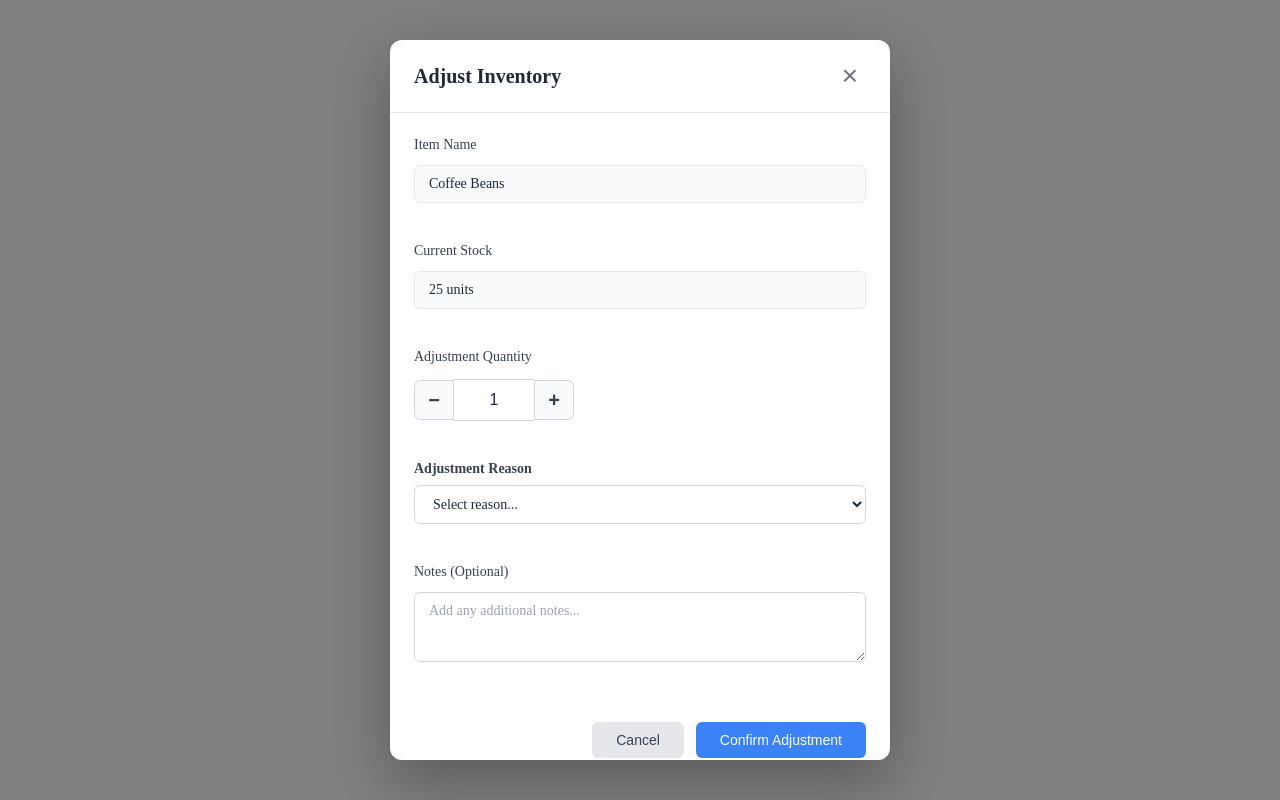
Test: InventoryAdjustmentForm Component › allows adjusting quantity
The image size is (1280, 800).
expect the number field with test id "quantity-input" holds "1": met, box x1=454 y1=379 x2=534 y2=421
What coordinates should you click on to do the following:
click the button with test id "quantity-increment"
I would click on:
 (554, 400)
Its box is x1=534 y1=380 x2=574 y2=420.
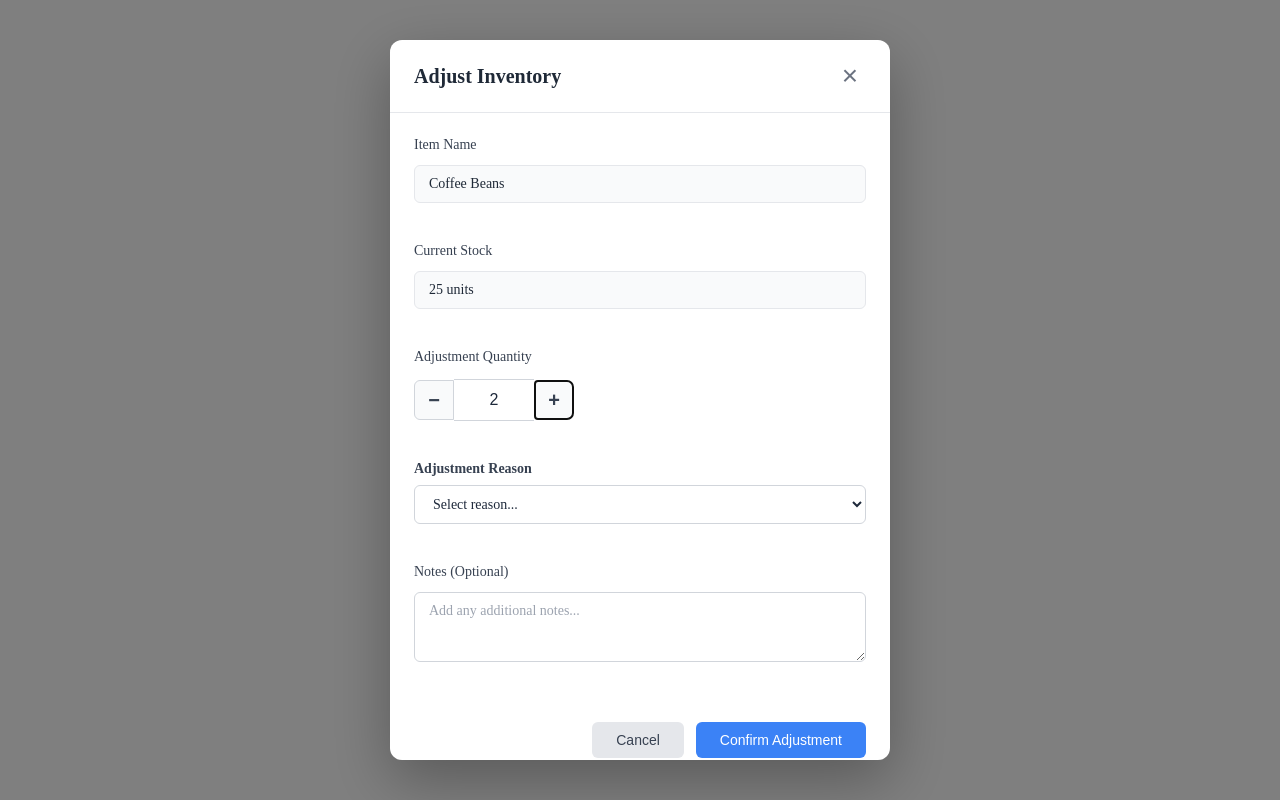
expect the number field with test id "quantity-input" holds "2": met, box x1=454 y1=379 x2=534 y2=421
